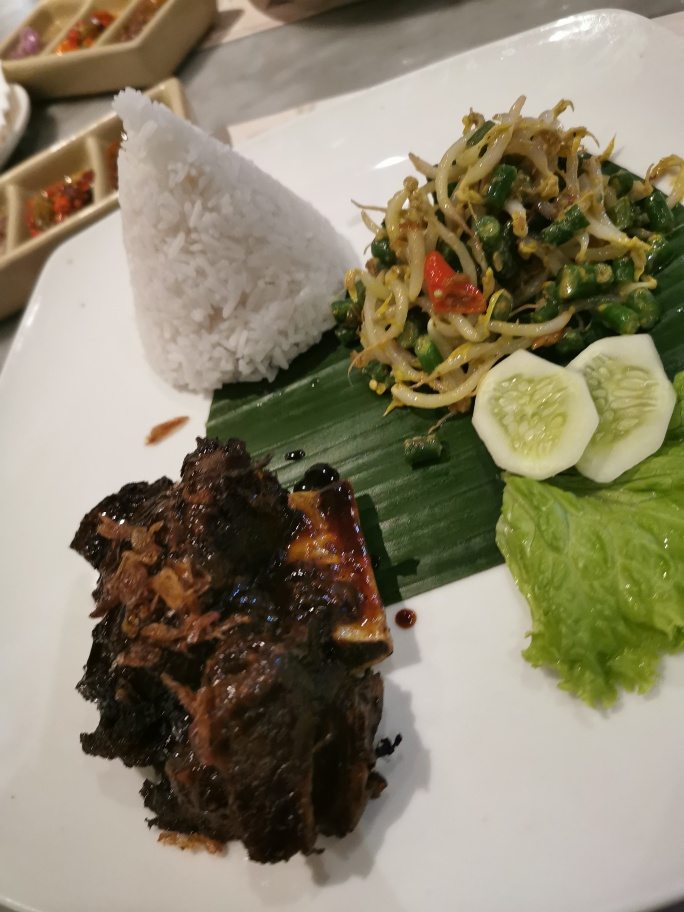iga bakar: (88, 441, 393, 872)
nasi putih: (75, 85, 362, 391)
